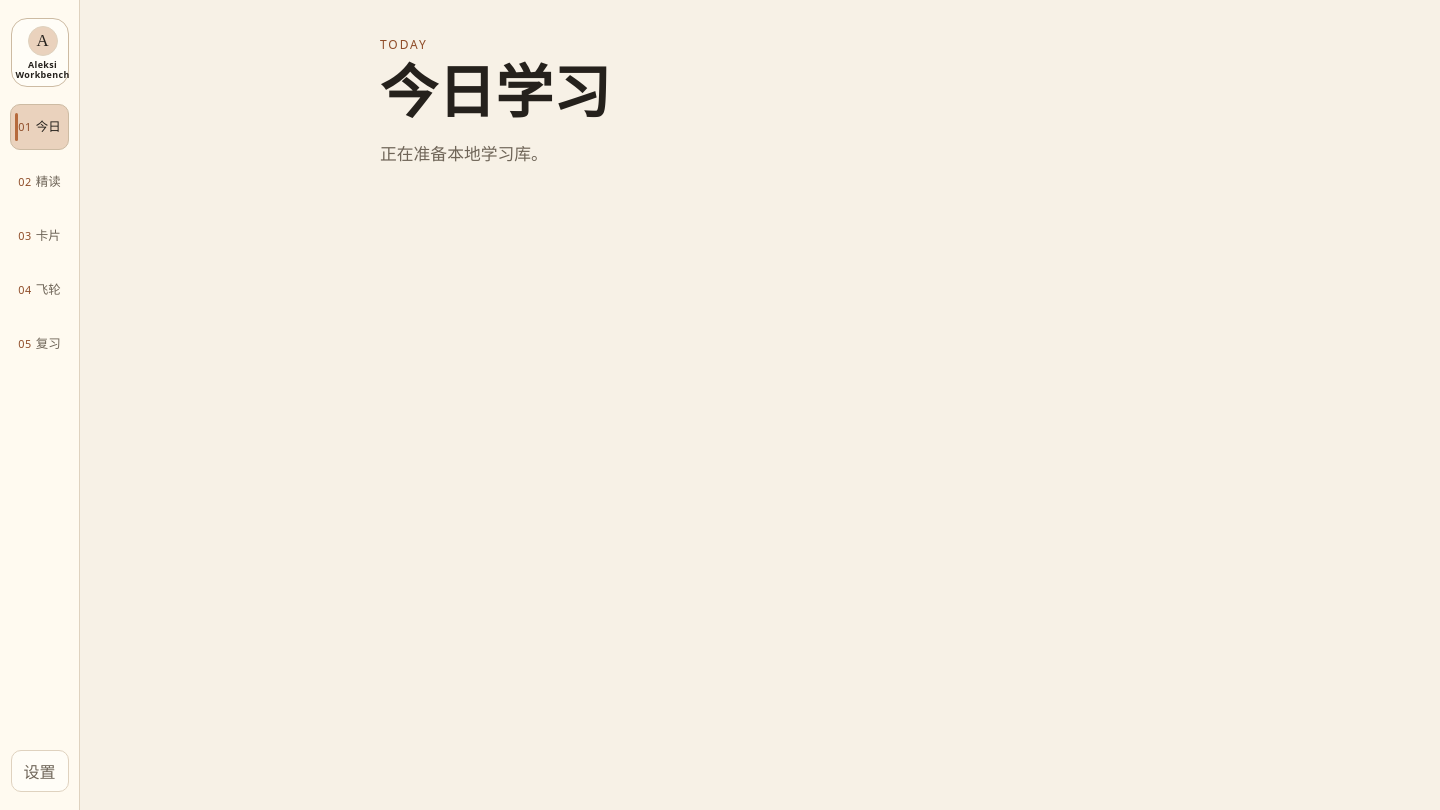
Test: Today and Settings surfaces › uses the backend-recommended learning-library path instead of deriving a user path in the frontend
Click the button with aria-label "打开设置" at (40, 771), box [10,750,68,792]
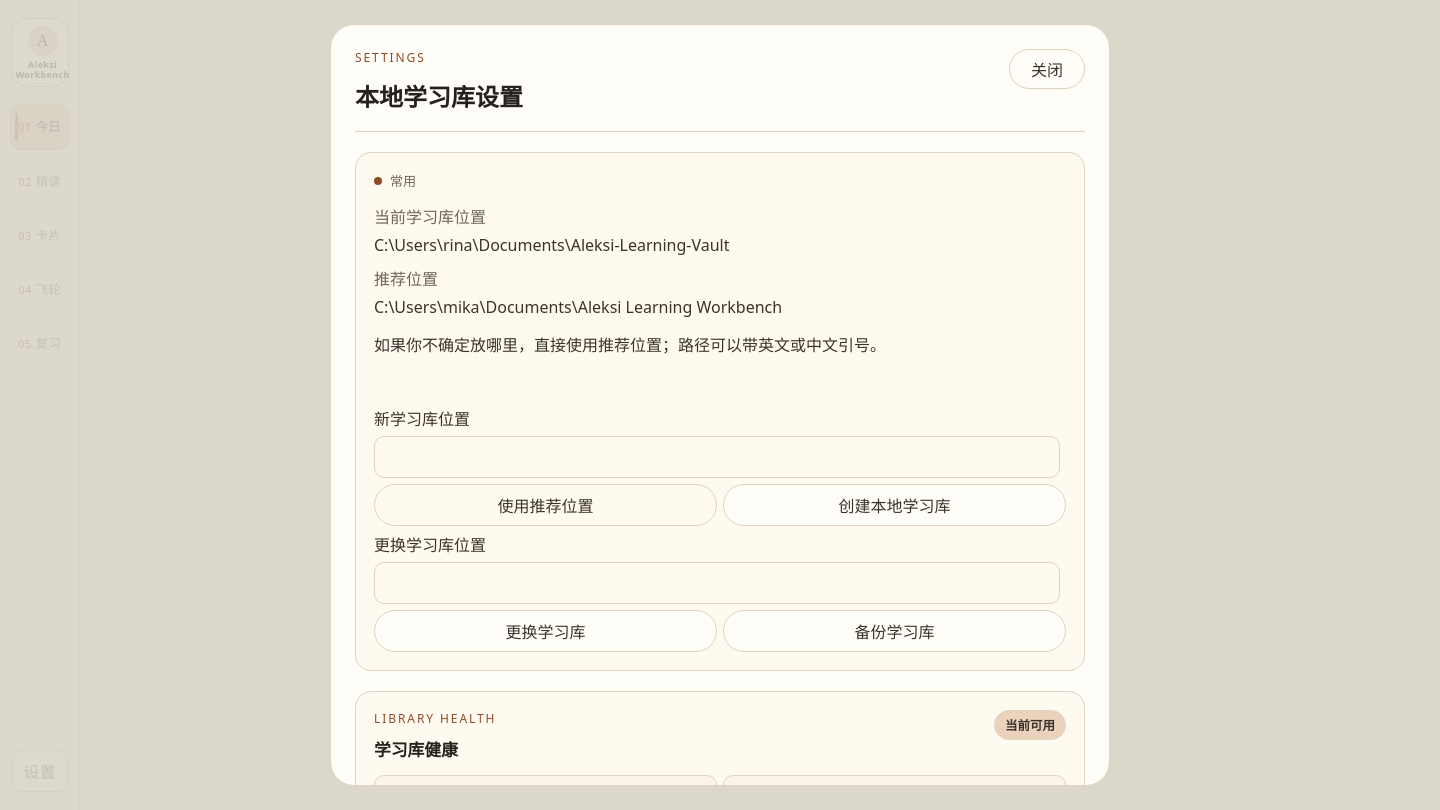
Result: the text "C:\\Users\\mika\\Documents\\Aleksi Learning Workbench" is shown at [374,296,782,318]
Click the button "使用推荐位置" at (546, 505), box [374,484,717,526]
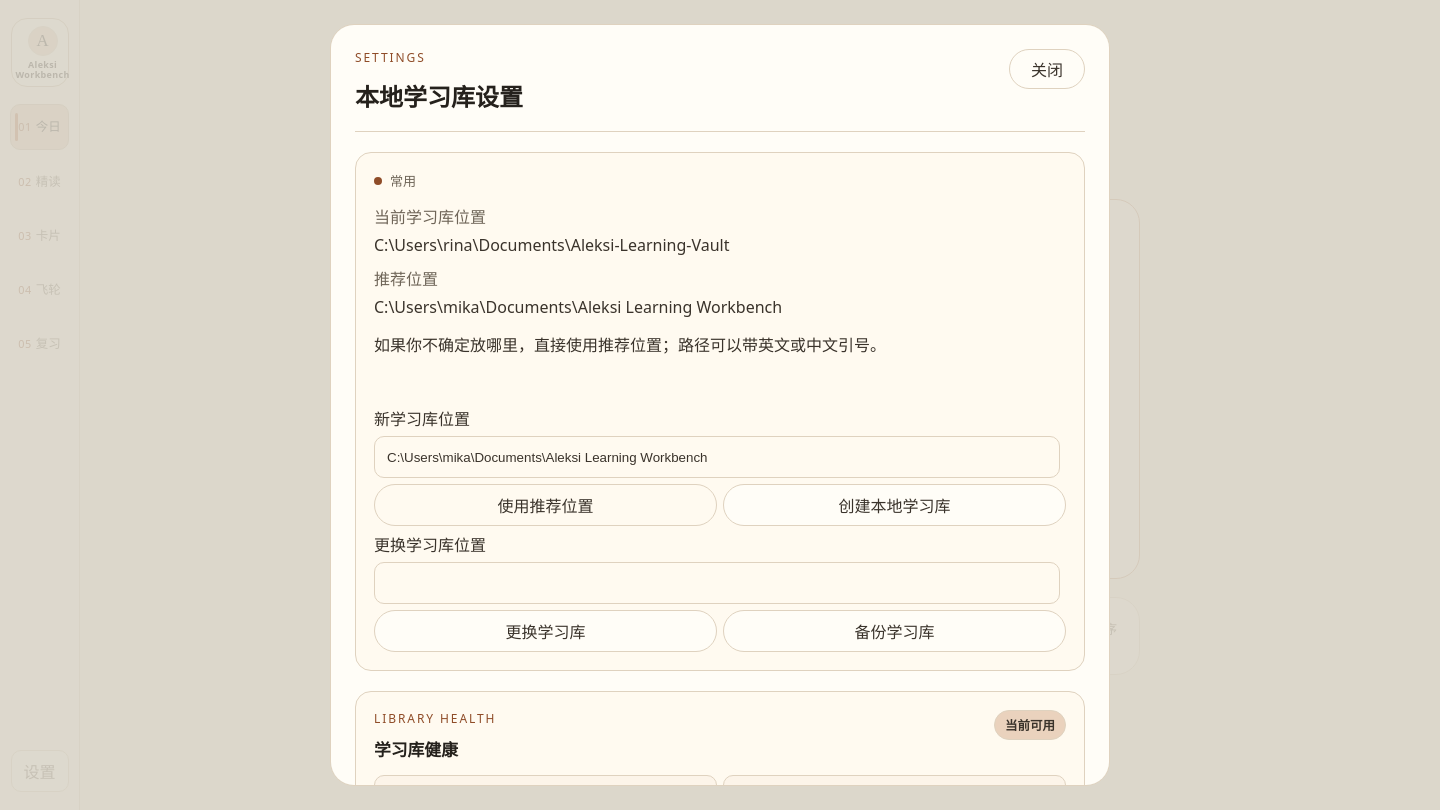
Result: the field labelled "新学习库位置" holds "C:\\Users\\mika\\Documents\\Aleksi Learning Workbench" at [374,436,1060,478]
